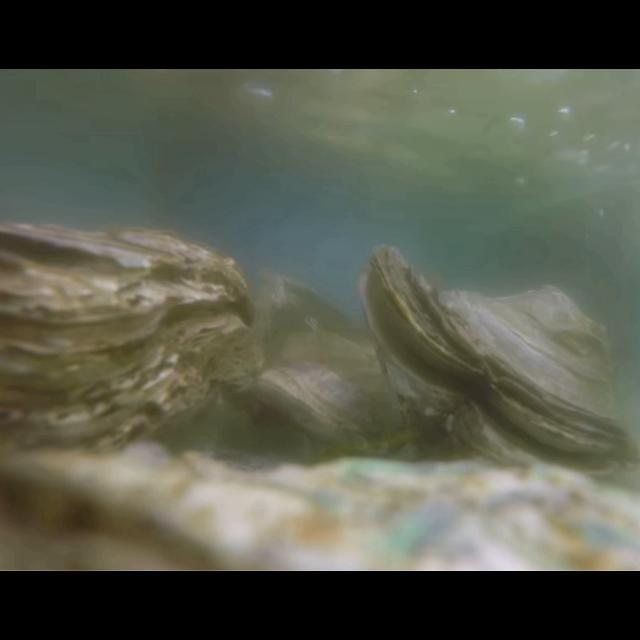Oyster-Closed: (0, 219, 256, 479)
Oyster-Indeterminate: (0, 444, 640, 572), (260, 334, 420, 464)
Oyster-Open: (356, 243, 640, 494)
